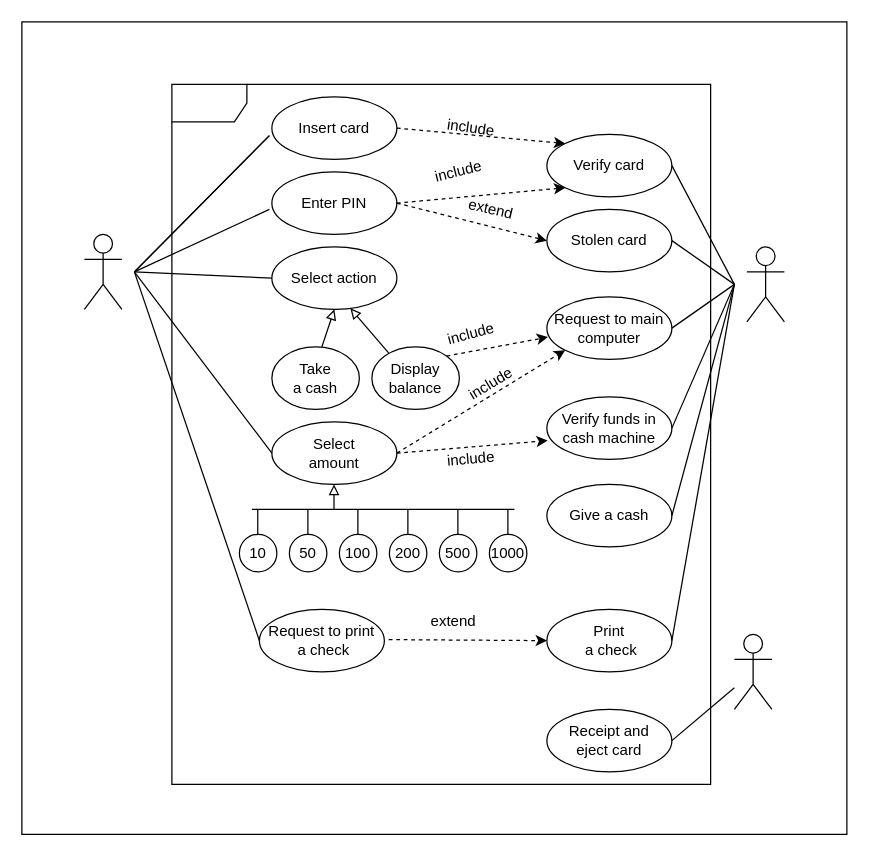
The diagram is 869 pixels wide and 856 high, and some of its shapes have lost their labels. The centre of each missing label's shape, as x and y in pixels:
"Bank customer" belongs at pixel 102 271.
"Bank worker" belongs at pixel 752 671.
"Cash machine" belongs at pixel 765 284.
"frame" belongs at pixel 441 433.
